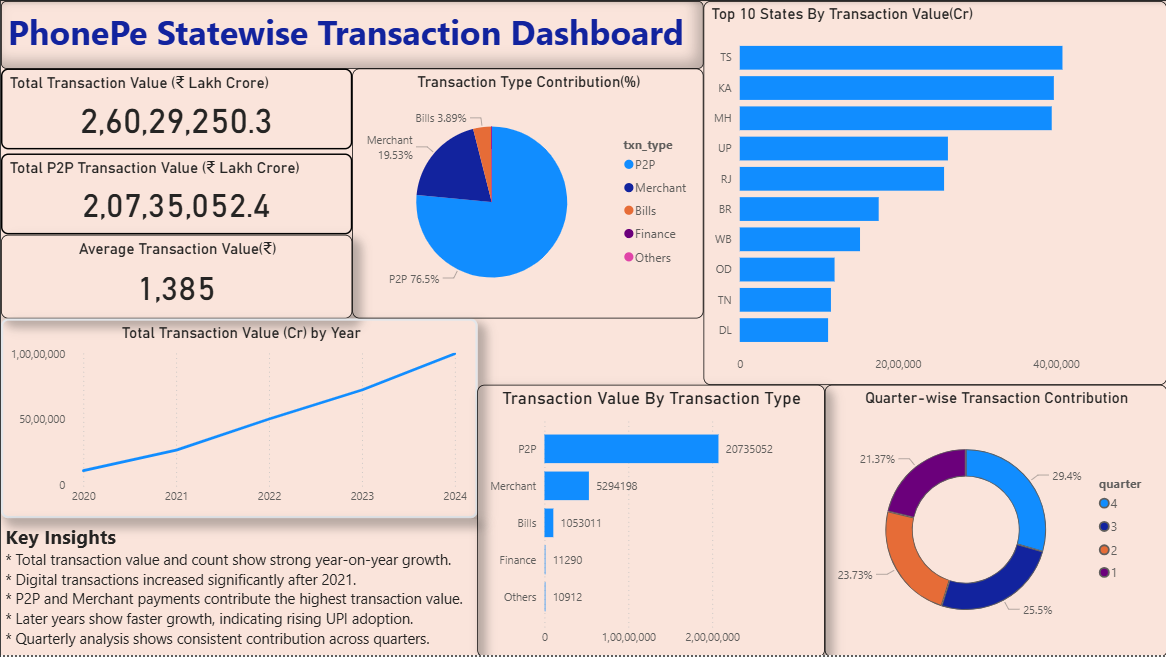

Layout of this report page (visuals, bound fields, positions):
{"tool":"powerbi","page":{"name":"Dashboard","canvas":[1280,720],"ordinal":0},"visuals":[{"type":"textbox","box":[0,0,771.2,74.1],"z":0},{"type":"card","title":"Total Transaction Value (₹ Lakh Crore)","fields":{"Values":["p2p_vs_merchant.Total Transaction Value (Cr)"]},"box":[0,74.1,385.6,89.2],"z":1000},{"type":"card","title":"Total P2P Transaction Value (₹ Lakh Crore)","fields":{"Values":["p2p_vs_merchant.Total P2P Transaction Value (Cr)"]},"box":[0,167.4,385.6,89.2],"z":2000},{"type":"card","title":"Average Transaction Value(₹)","fields":{"Values":["p2p_vs_merchant.Average Transaction Value (₹)"]},"box":[0,256.6,385.6,91.9],"z":3000},{"type":"lineChart","title":"Total Transaction Value (Cr) by Year","fields":{"Y":["p2p_vs_merchant.Total Transaction Value (Cr)"],"Category":["p2p_vs_merchant.year"]},"box":[0,348.5,522.8,219.6],"z":4000},{"type":"clusteredBarChart","title":"Transaction Value By Transaction Type","fields":{"Category":["txn_type.txn_type"],"Y":["Sum(txn_type.total_amount_cr)"]},"box":[522.8,421.3,381.5,299.1],"z":5000},{"type":"donutChart","title":"Quarter-wise Transaction Contribution","fields":{"Category":["quarterly_trends.quarter"],"Y":["Sum(quarterly_trends.total_amount_cr)"]},"box":[904.3,421.3,376,299.1],"z":6000},{"type":"textbox","box":[0,568.1,522.8,152.3],"z":7000},{"type":"clusteredBarChart","title":"Top 10 States By Transaction Value(Cr)","fields":{"Category":["state_wise.state"],"Y":["Sum(state_wise.total_amount_cr)"]},"box":[771.2,0,509.1,421.3],"z":8000},{"type":"pieChart","title":"Transaction Type Contribution(%)","fields":{"Y":["Sum(txn_type.total_amount_cr)"],"Category":["txn_type.txn_type"]},"box":[385.6,74.1,385.6,274.4],"z":9000}]}

Visuals, with their boxes in screenshot pixels (x1, y1, x2, y2), scaled from the page's 1280x720 canvas onto the 1166x657 screenshot:
textbox: left=0, top=0, right=703, bottom=68
"Total Transaction Value (₹ Lakh Crore)" card: left=0, top=68, right=351, bottom=149
"Total P2P Transaction Value (₹ Lakh Crore)" card: left=0, top=153, right=351, bottom=234
"Average Transaction Value(₹)" card: left=0, top=234, right=351, bottom=318
"Total Transaction Value (Cr) by Year" lineChart: left=0, top=318, right=476, bottom=518
"Transaction Value By Transaction Type" clusteredBarChart: left=476, top=384, right=824, bottom=656
"Quarter-wise Transaction Contribution" donutChart: left=824, top=384, right=1165, bottom=656
textbox: left=0, top=518, right=476, bottom=656
"Top 10 States By Transaction Value(Cr)" clusteredBarChart: left=703, top=0, right=1165, bottom=384
"Transaction Type Contribution(%)" pieChart: left=351, top=68, right=703, bottom=318
